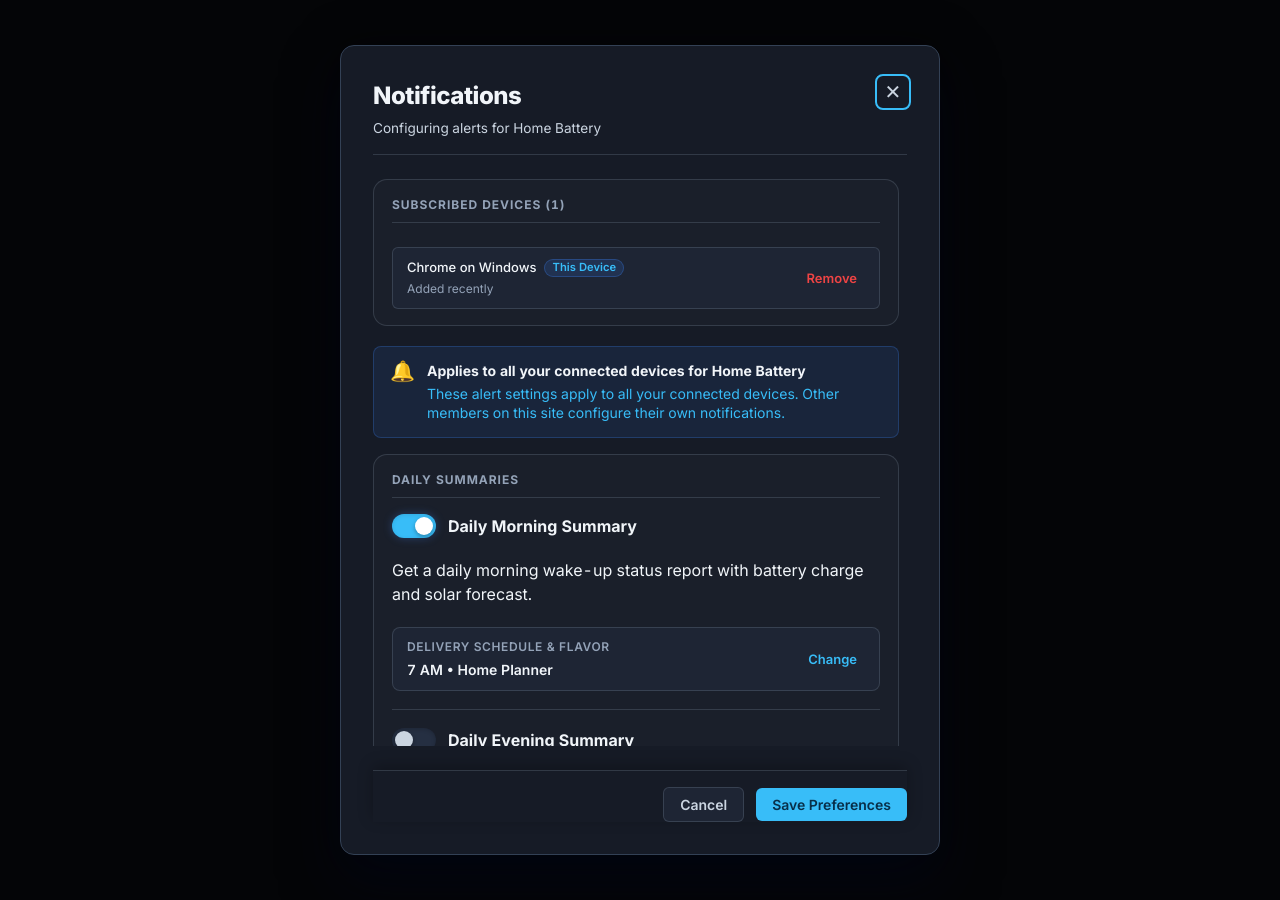
NotificationModal › unsubscribes local browser and hides alert options when current device is removed
This screenshot has width=1280, height=900.
Expected: the text "This Device" is shown, [544,259,624,277]
Expected: the checkbox "Daily Morning Summary" is shown, [448,514,637,538]
Click the button "Remove" at (832, 278), box [798,267,865,289]
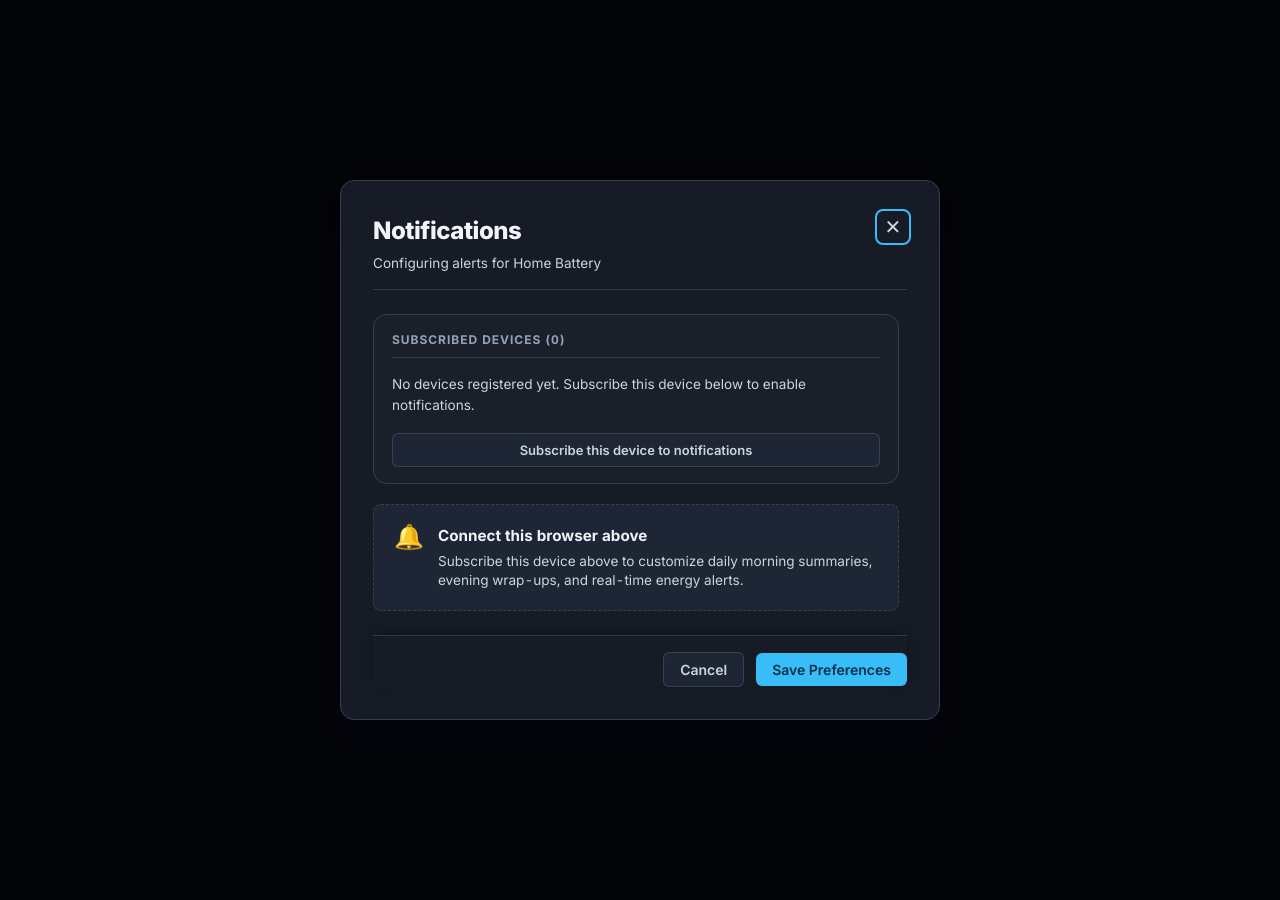
Expected: the checkbox "Daily Morning Summary" is gone
Expected: the button "Subscribe this device to notifications" is shown, [392,433,880,467]
Expected: the text "Connect this browser above" is shown, [438,526,647,545]
